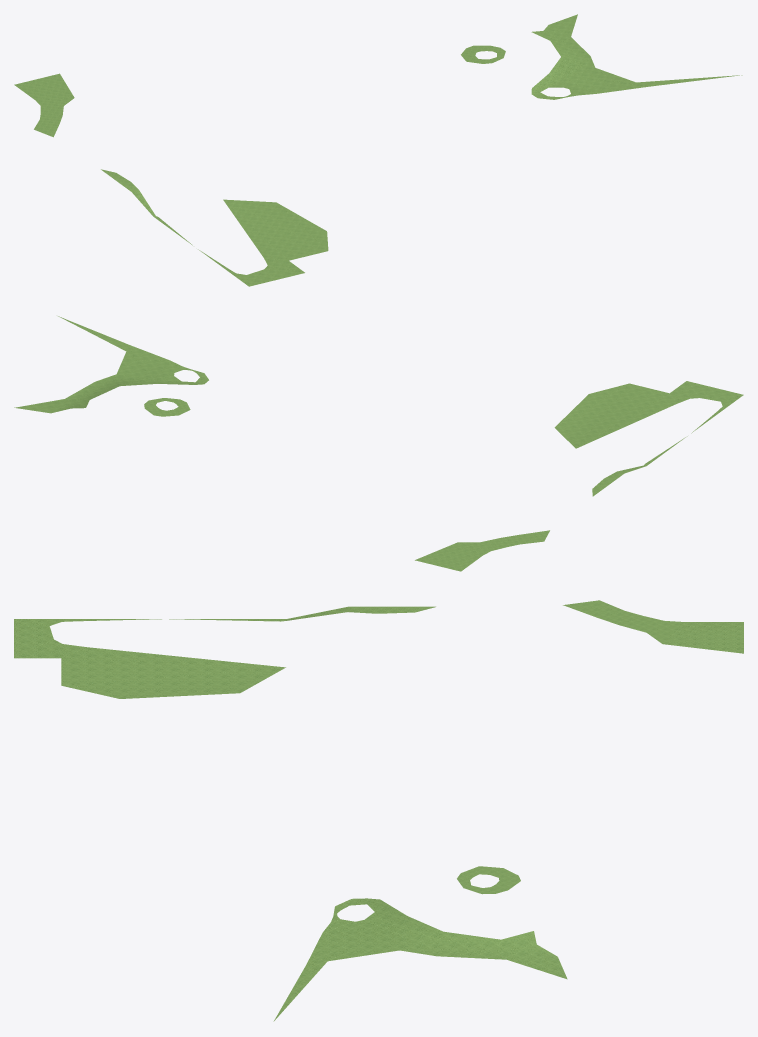
Rendered from kd_stage_135d18_4_122_bounded.glb.
3 views of the same model, one above another, from view 1: azimuth 30°, elevation 25°; view 2: azimuth 150°, elevation 25°; view 3: azimuth 270°, elevation 25° (orthographic). The views are drawn at different scales.
Parts seen in each view (by area): view 1: kd_stage_135d18_4_122_bounded; view 2: kd_stage_135d18_4_122_bounded; view 3: kd_stage_135d18_4_122_bounded.
Part boxes in pixels (x1=…): kd_stage_135d18_4_122_bounded: x1=14, y1=14, x2=742, y2=286; kd_stage_135d18_4_122_bounded: x1=14, y1=316, x2=743, y2=571; kd_stage_135d18_4_122_bounded: x1=14, y1=600, x2=743, y2=1021.
Bounding box in the file's own units: 16.05 × 0.3127 × 11.99.
1 material, 1 textured.
